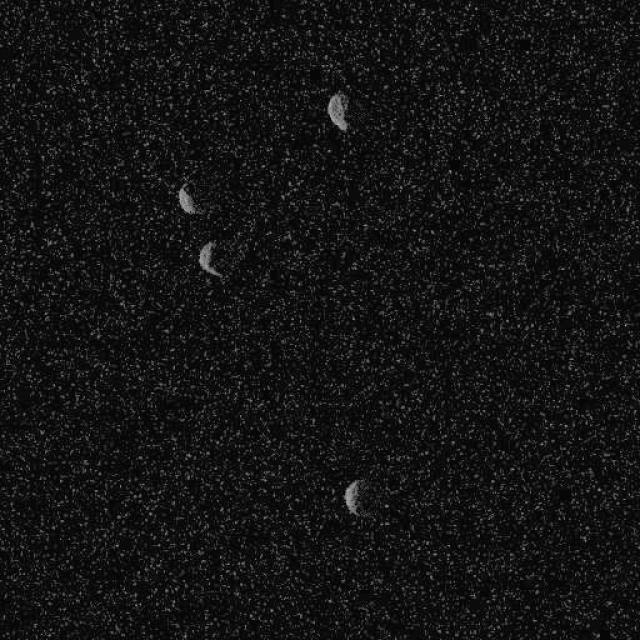D2: (196, 239, 224, 280), (342, 477, 368, 518), (326, 90, 350, 131), (176, 181, 199, 215)
